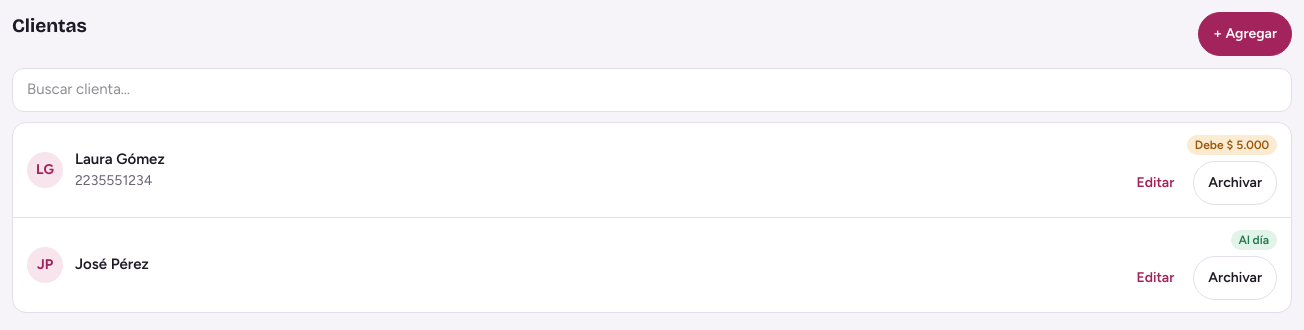
Test: CustomersView › avisa cuando ninguna clienta coincide con la búsqueda
Type "zzz" into the search field with placeholder "Buscar clienta…" at (652, 90), box [12,68,1292,112]
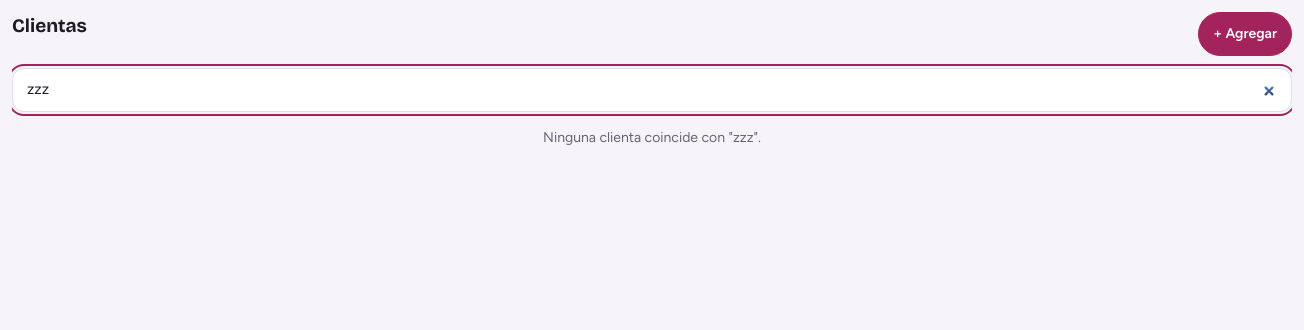
expect the text "Ninguna clienta coincide con \"zzz\"." is shown: met, box [543,129,761,146]
